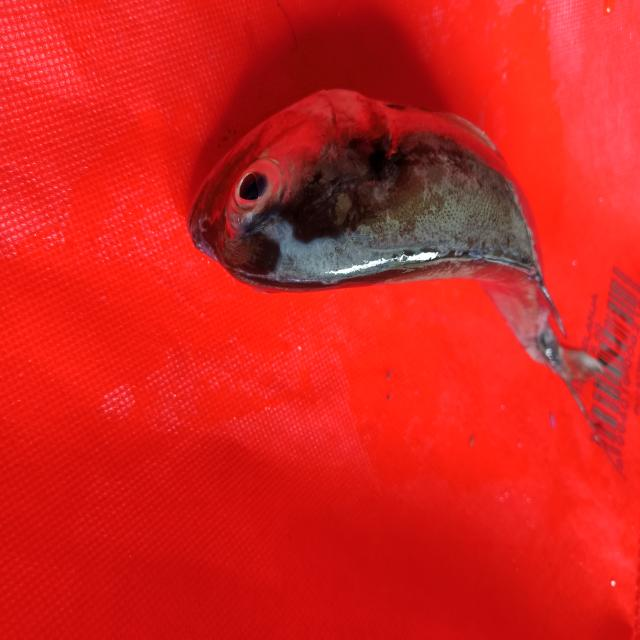ikan: (179, 53, 616, 420)
